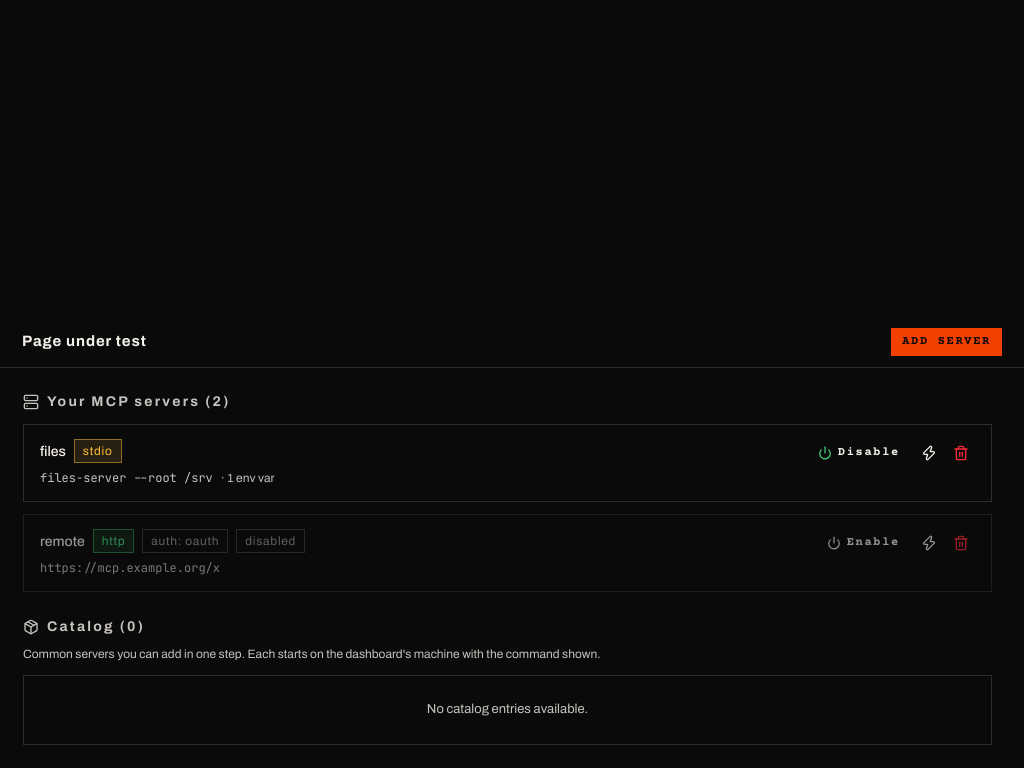
it: mcp page › switches a server and removes one after confirming
(page scrolled)
Click the button "Enable". click: (863, 543)
box: [816, 529, 911, 557]
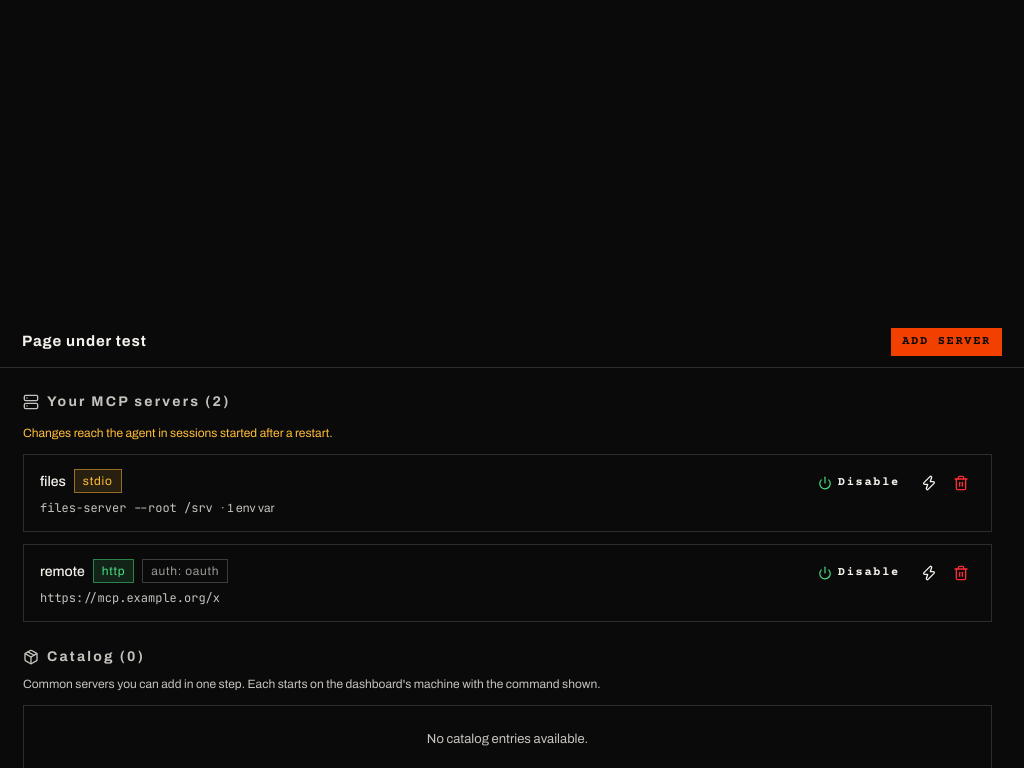
Click the button named "Remove" in the row of "remote". click: (961, 573)
box: [947, 559, 975, 587]
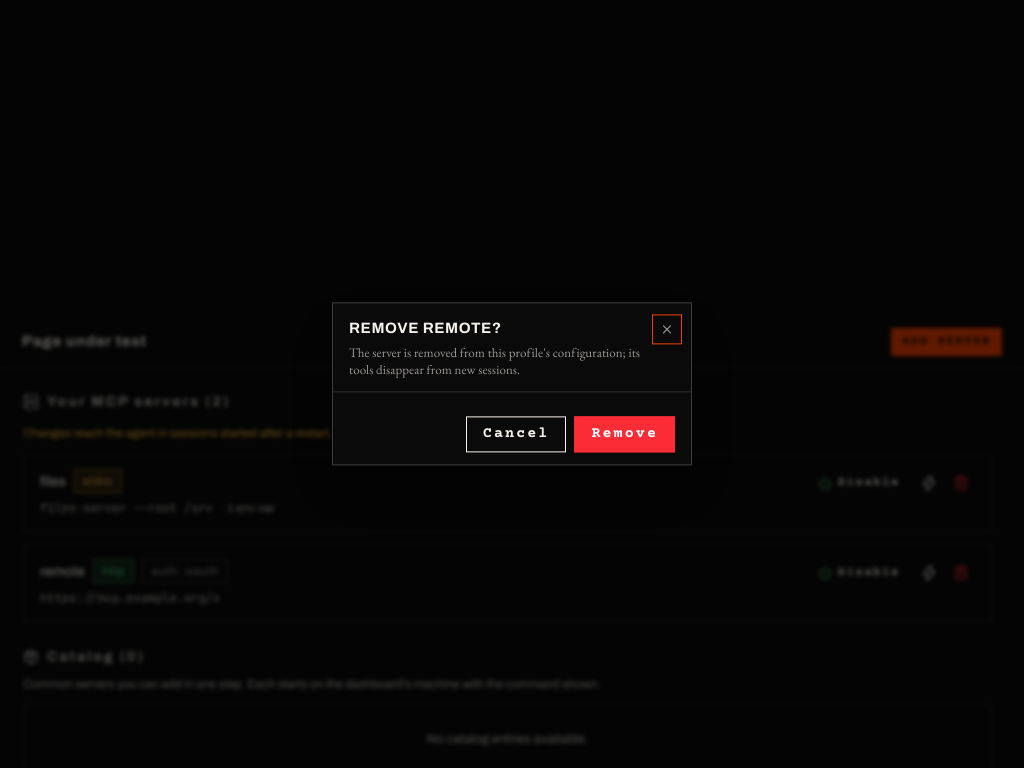
Click the button "Remove". click: (625, 435)
box: [574, 417, 675, 453]
(page scrolled)
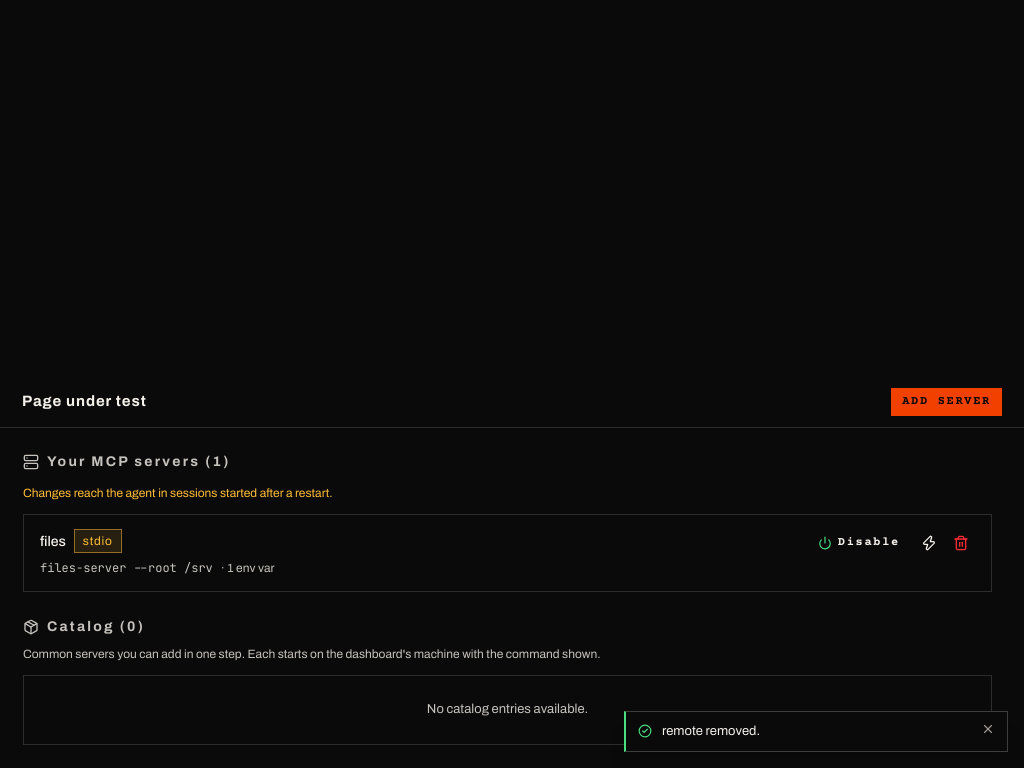
Expected: the list item with test id "mcp-remote" is gone
